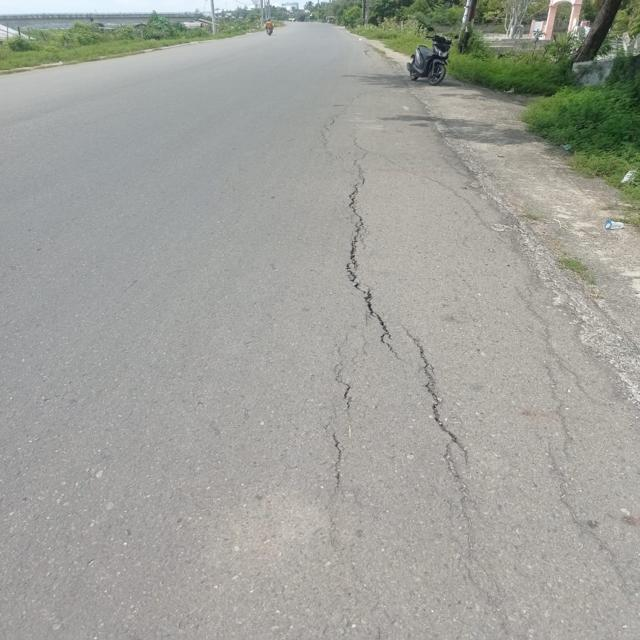Memanjang: (342, 149, 409, 357), (403, 326, 476, 465)
